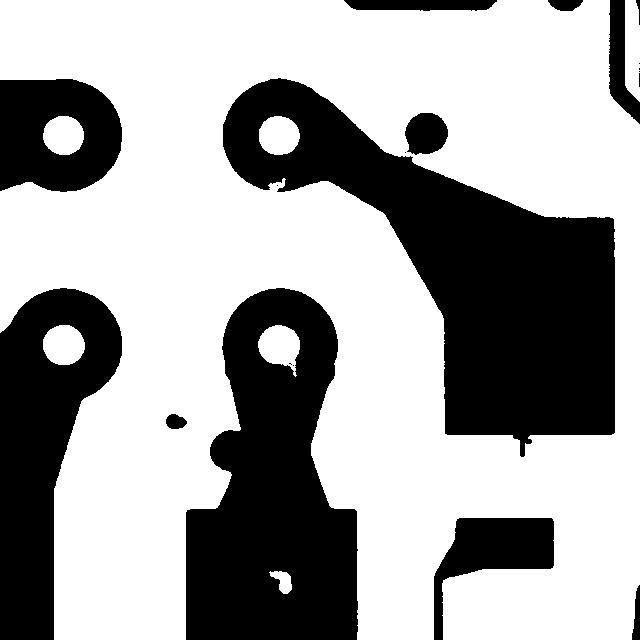copper: (156, 404, 196, 438)
mousebite: (270, 348, 306, 386), (258, 168, 295, 201)
open: (390, 142, 424, 166)
pin-hole: (259, 561, 301, 603)
spur: (503, 418, 541, 466)
